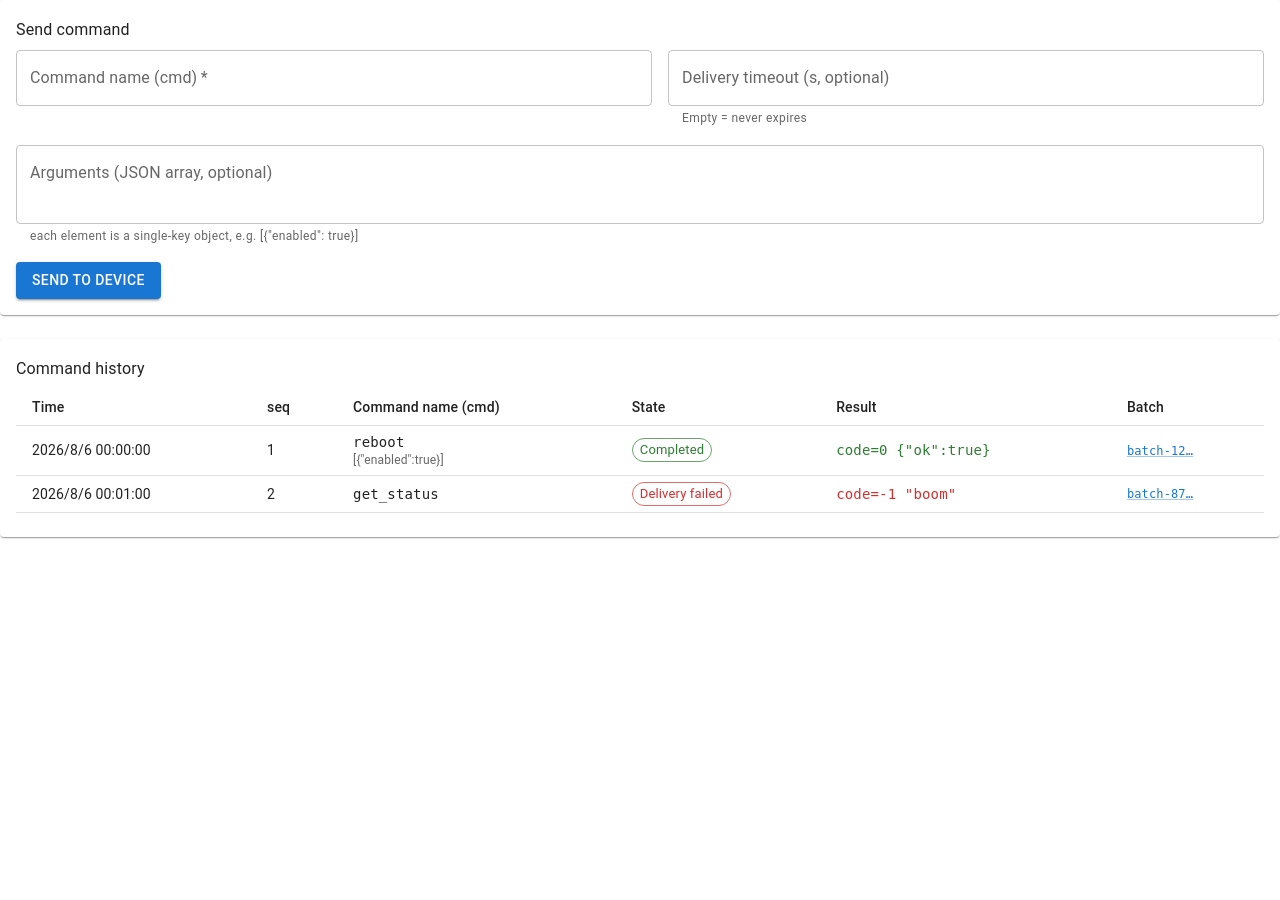
Test: CommandHistory › batch dialog renders per-device command rows
Click the button "batch-12…" at (1160, 451), box [1127,443,1193,460]
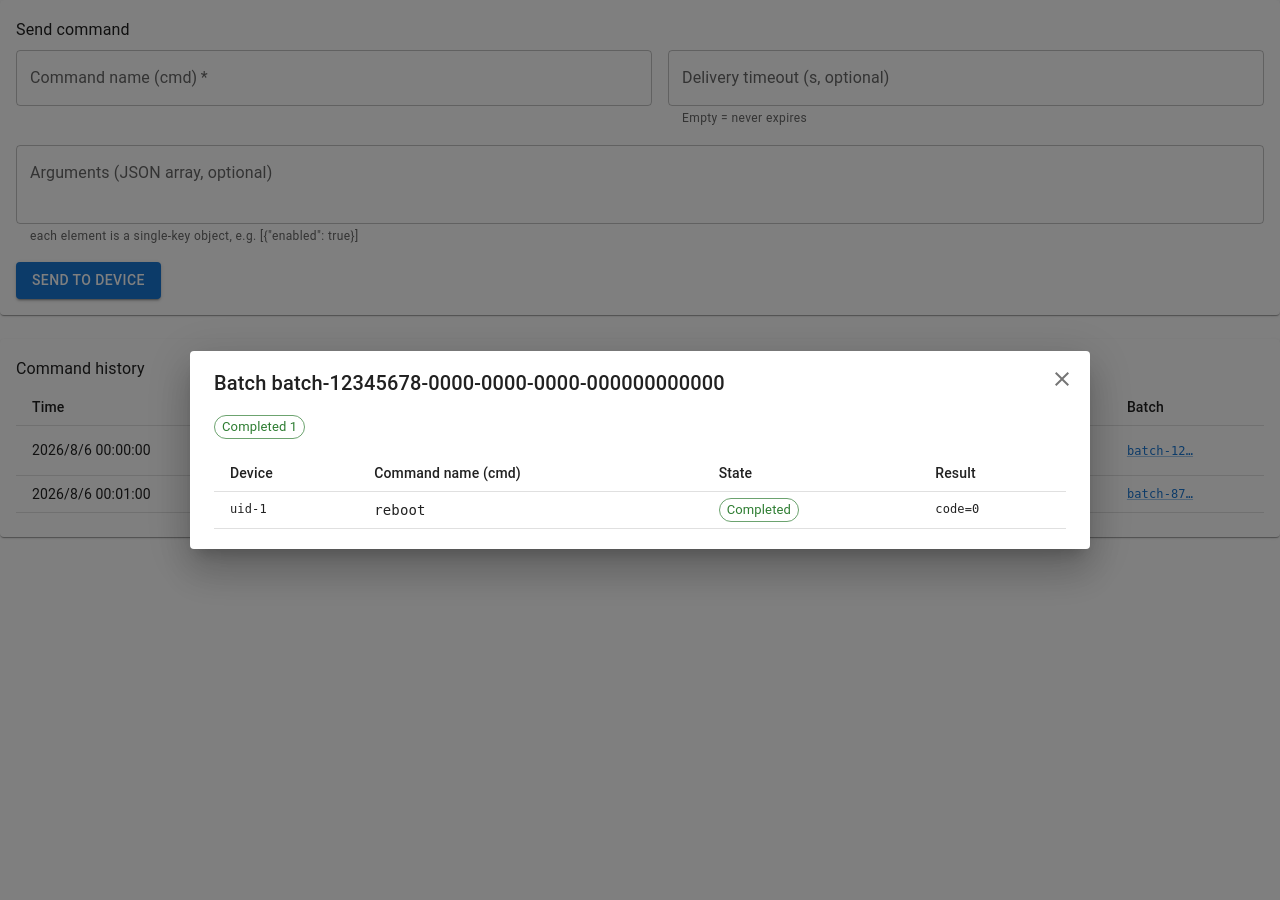
Check: the text "uid-1" is shown, box [214,492,358,528]
